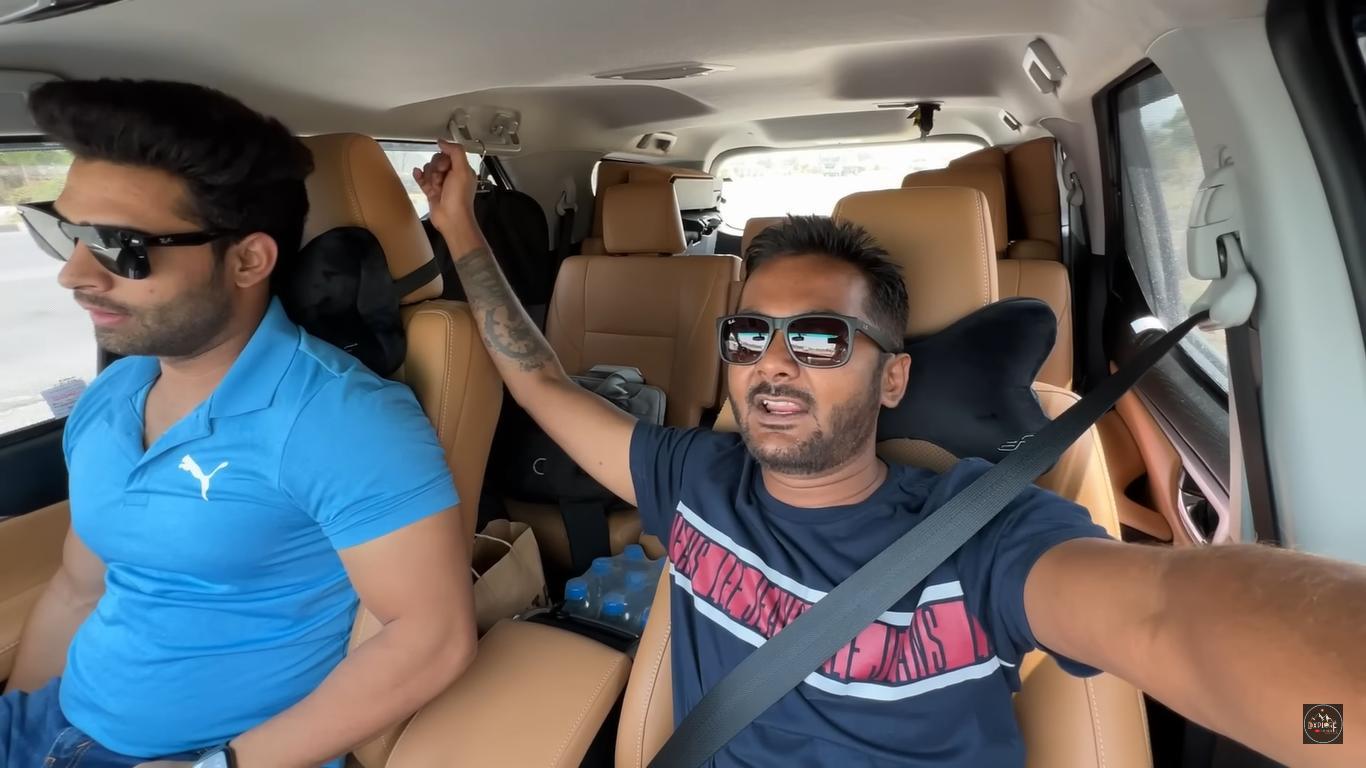no-seatbelt: (87, 375, 331, 735)
seatbelt: (699, 444, 1028, 761)
